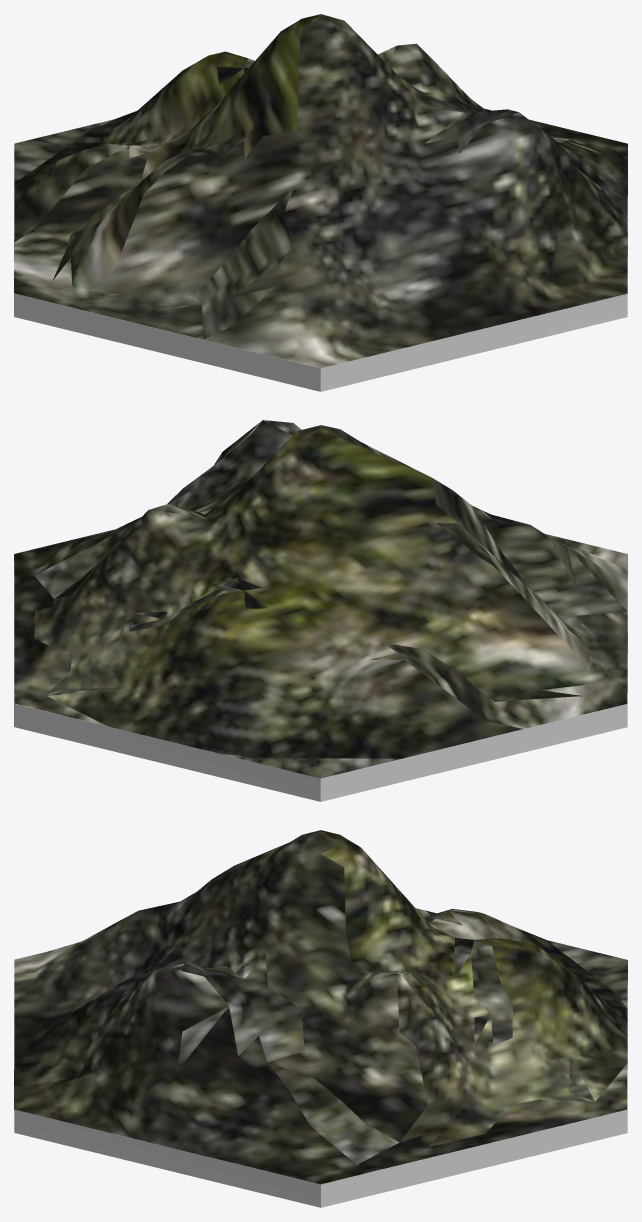
File: hillock.fbx
3 renders of one model, top to bottom at view 1: azimuth 30°, elevation 25°; view 2: azimuth 150°, elevation 25°; view 3: azimuth 270°, elevation 25°, orthographic.
Parts seen in each view (by area): view 1: Hillock, Hex (hollow); view 2: Hillock, Hex (hollow); view 3: Hillock, Hex (hollow).
Boxes of the visible parts, bbox=[...] form: Hillock: bbox=[14, 14, 627, 368]; Hex (hollow): bbox=[14, 109, 627, 391]; Hillock: bbox=[14, 420, 627, 778]; Hex (hollow): bbox=[14, 555, 627, 801]; Hillock: bbox=[14, 830, 627, 1184]; Hex (hollow): bbox=[14, 953, 627, 1207].
Bounding box in the file's own units: 4379 × 1531 × 3794.
